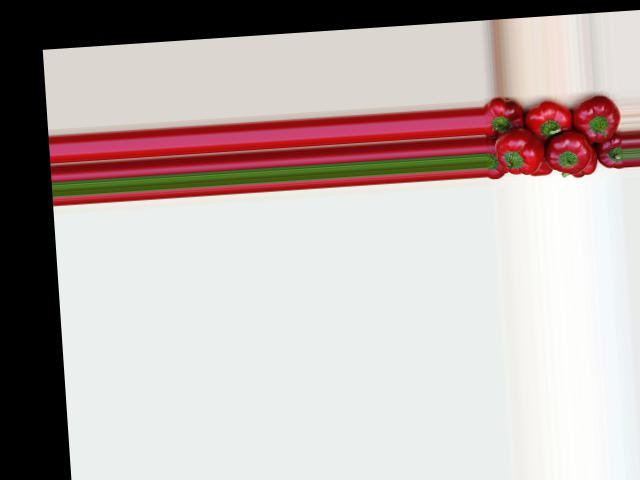bell_pepper: (533, 158, 553, 178)
